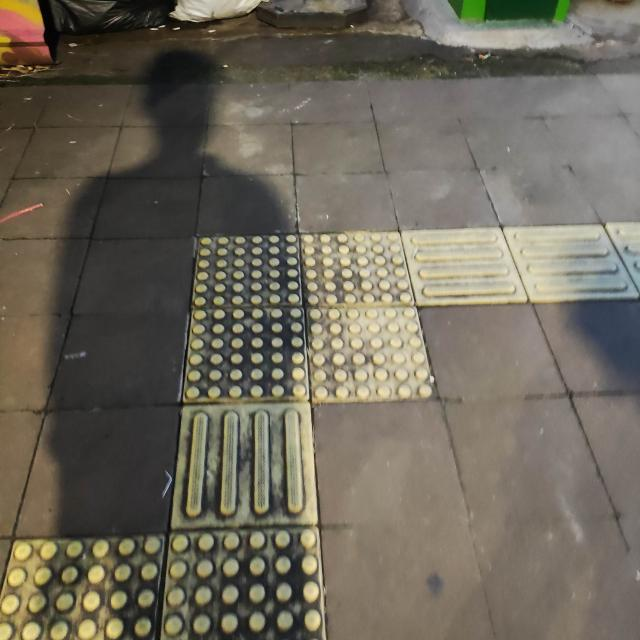kanan: (158, 188, 614, 458)
